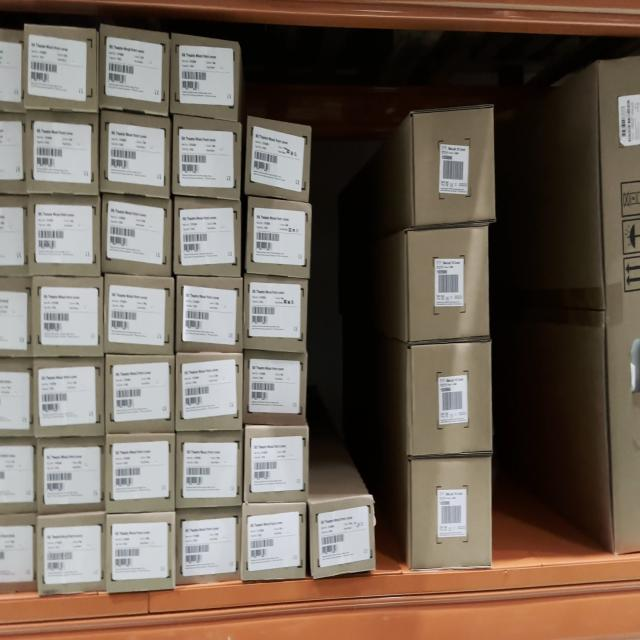box: (414, 115, 494, 221), (410, 348, 491, 451), (414, 462, 491, 568), (410, 235, 488, 338), (24, 28, 94, 106), (29, 194, 98, 273), (34, 360, 104, 437), (106, 275, 173, 352), (106, 357, 172, 434), (33, 278, 102, 351), (100, 118, 168, 191), (105, 438, 174, 508), (29, 114, 96, 186), (107, 515, 173, 588), (104, 31, 167, 107), (102, 201, 170, 271), (175, 201, 240, 274), (176, 120, 238, 195), (177, 358, 243, 428), (176, 41, 238, 113), (40, 521, 102, 590), (250, 202, 308, 275), (179, 281, 240, 350), (36, 447, 102, 509), (243, 509, 304, 576), (178, 515, 240, 580), (178, 438, 240, 502), (250, 126, 311, 191), (248, 426, 303, 498), (314, 507, 374, 572), (246, 284, 307, 347), (246, 358, 306, 421)
